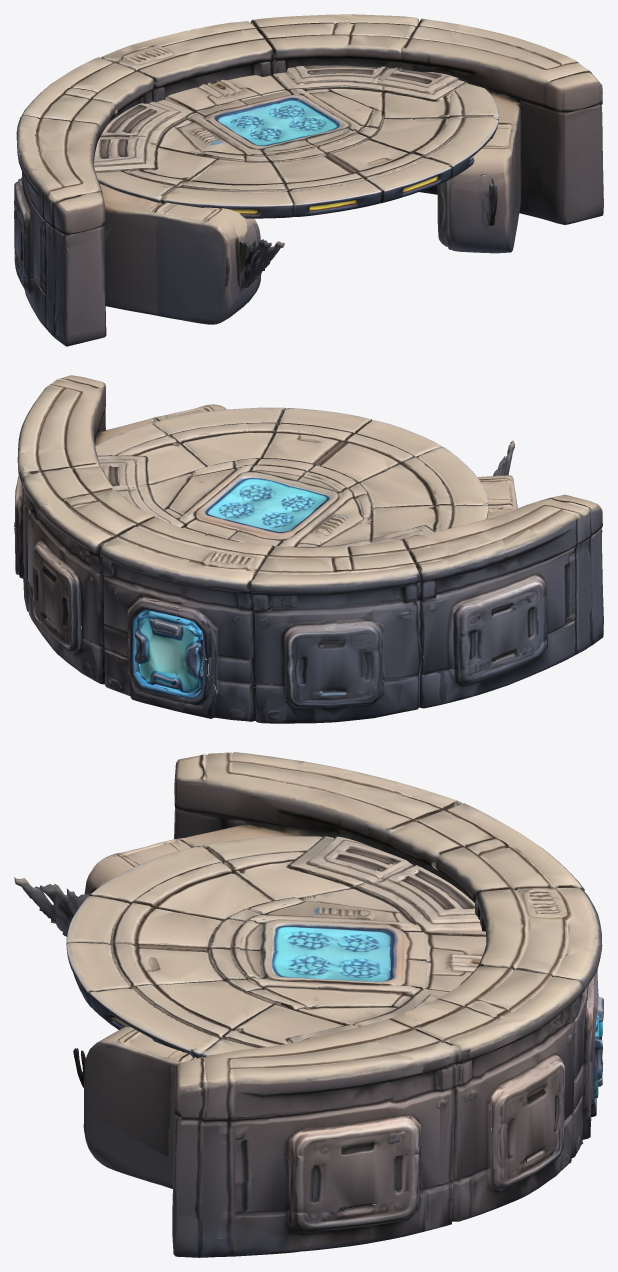
File: iss_hull.glb
The picture shows the model from 3 angles, top to bottom: view 1: azimuth 30°, elevation 25°; view 2: azimuth 150°, elevation 25°; view 3: azimuth 270°, elevation 25°; orthographic projection. The views are drawn at different scales.
Visible parts, largest first — view 1: tripo_part_4.002, tripo_part_25.002, tripo_part_15.002, tripo_part_36.002, tripo_part_108.002, tripo_part_8.002, tripo_part_34.002, tripo_part_21.002, tripo_part_20.002, tripo_part_84.002, tripo_part_23.002, tripo_part_30.002 (+17 smaller); view 2: tripo_part_30.002, tripo_part_15.002, tripo_part_25.002, tripo_part_26.002, tripo_part_38.002, tripo_part_34.002, tripo_part_64.002, tripo_part_21.002, tripo_part_36.002, tripo_part_44.002, tripo_part_86.002, tripo_part_20.002 (+19 smaller); view 3: tripo_part_21.002, tripo_part_15.002, tripo_part_36.002, tripo_part_25.002, tripo_part_34.002, tripo_part_8.002, tripo_part_77.002, tripo_part_44.002, tripo_part_20.002, tripo_part_74.002, tripo_part_145.001, tripo_part_4.002 (+21 smaller).
Part boxes in pixels (x1,y1,x2,y2): tripo_part_4.002: (99, 183, 284, 324); tripo_part_25.002: (39, 21, 275, 132); tripo_part_15.002: (181, 89, 381, 161); tripo_part_36.002: (401, 18, 602, 113); tripo_part_108.002: (519, 100, 603, 224); tripo_part_8.002: (437, 74, 522, 253); tripo_part_34.002: (16, 115, 105, 240); tripo_part_21.002: (251, 14, 563, 172); tripo_part_20.002: (94, 96, 340, 218); tripo_part_84.002: (47, 227, 106, 346); tripo_part_23.002: (289, 158, 474, 216); tripo_part_30.002: (14, 171, 54, 336); tripo_part_30.002: (419, 543, 590, 708); tripo_part_15.002: (160, 458, 367, 546); tripo_part_25.002: (99, 517, 417, 631); tripo_part_26.002: (253, 598, 425, 723); tripo_part_38.002: (101, 565, 255, 721); tripo_part_34.002: (400, 494, 602, 621); tripo_part_64.002: (283, 623, 383, 708); tripo_part_21.002: (20, 466, 154, 611); tripo_part_36.002: (17, 375, 105, 502); tripo_part_44.002: (26, 506, 104, 684); tripo_part_86.002: (250, 565, 419, 609); tripo_part_20.002: (253, 440, 488, 604); tripo_part_21.002: (200, 966, 584, 1257); tripo_part_15.002: (210, 900, 426, 1020); tripo_part_36.002: (174, 1018, 461, 1119); tripo_part_25.002: (382, 809, 602, 1011); tripo_part_34.002: (174, 752, 461, 848); tripo_part_8.002: (73, 1027, 325, 1188); tripo_part_77.002: (288, 1115, 420, 1224); tripo_part_44.002: (452, 1014, 577, 1221); tripo_part_20.002: (110, 836, 528, 987); tripo_part_74.002: (490, 1059, 565, 1190); tripo_part_145.001: (199, 1112, 279, 1242); tripo_part_4.002: (14, 825, 423, 936).
Bounding box in the file's own units: 13.08 × 3.68 × 9.81.
Materials: 48 (48 with a texture image).
